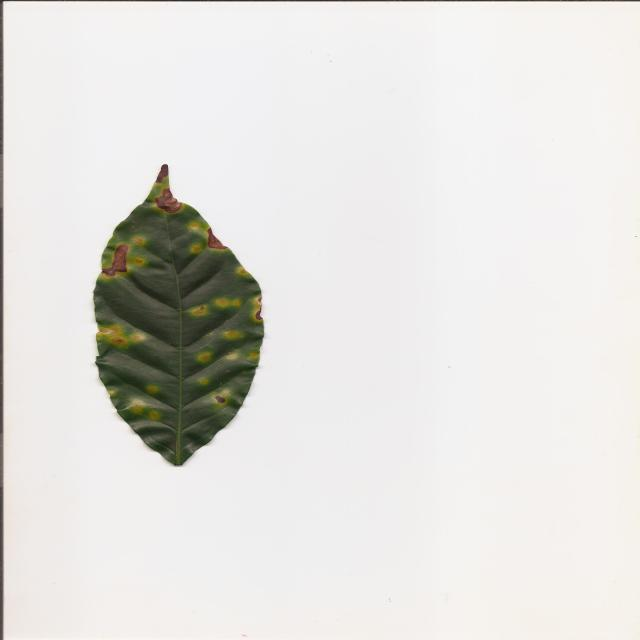Enfermedad-Roya: (92, 165, 265, 469)
